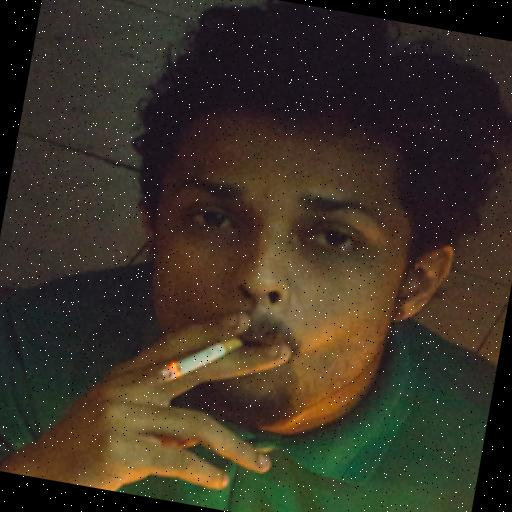terdeteksi merokok: (141, 198, 336, 436)
